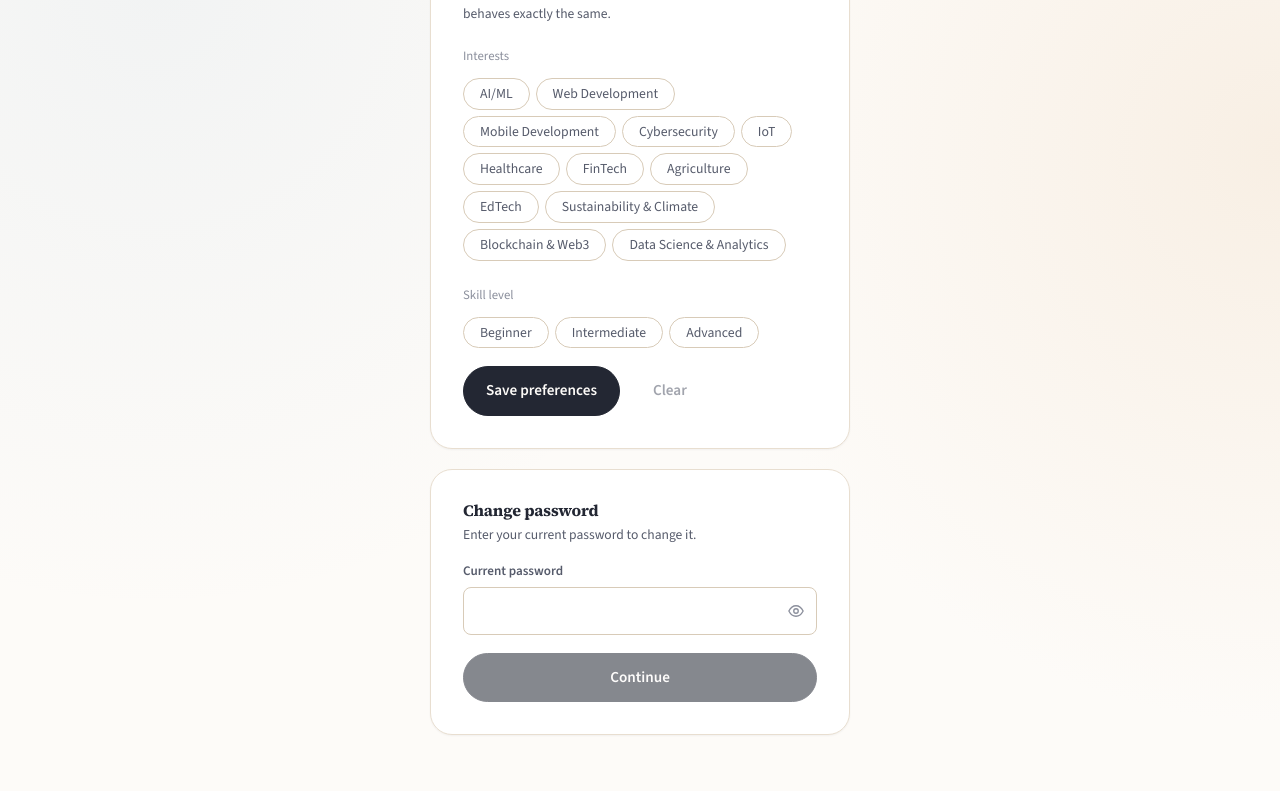
Scenario: Profile — optional personalization (interests / skill level) › shows an error instead of silently failing when the save fails
(page scrolled)
What coordinates should you click on to do the following:
click the button "Save preferences"
I would click on:
 (542, 391)
Its box is [463,366,620,416].
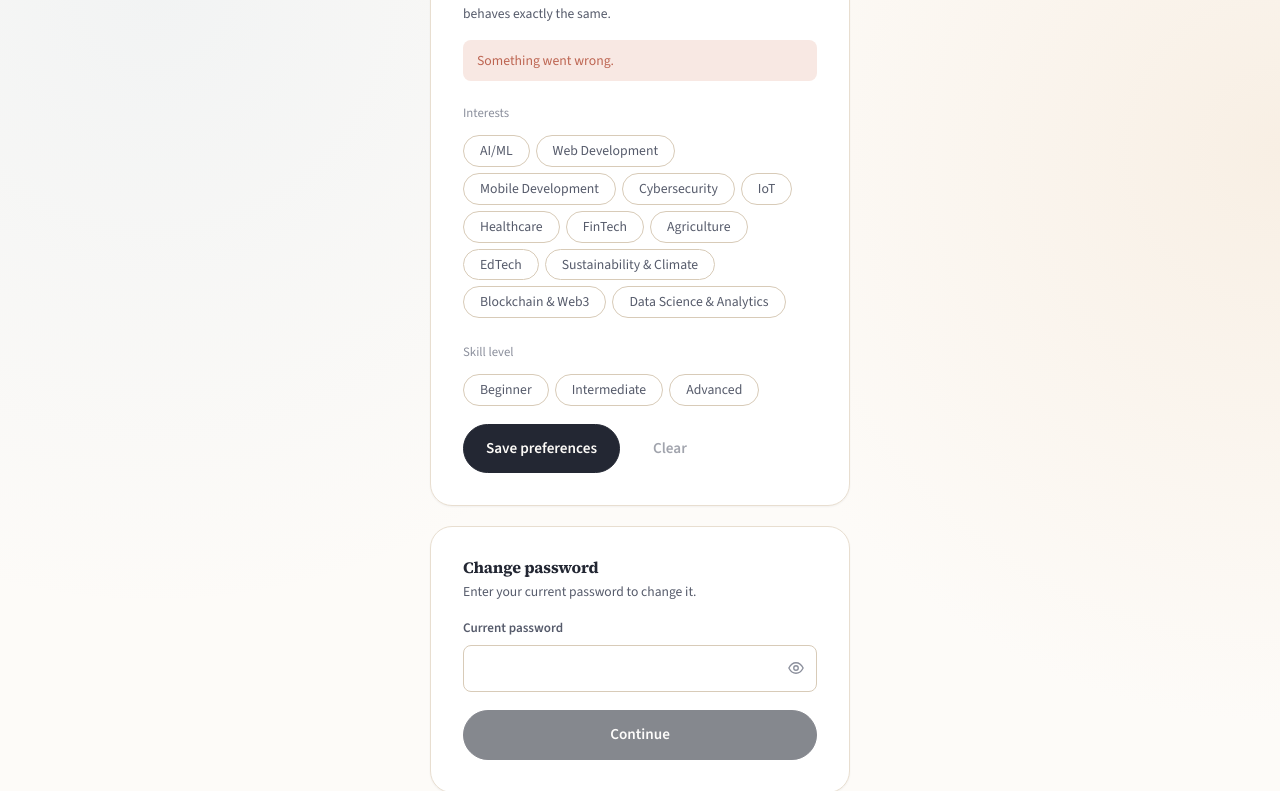
Now the text "Something went wrong." is shown, box [463,40,817,81]
